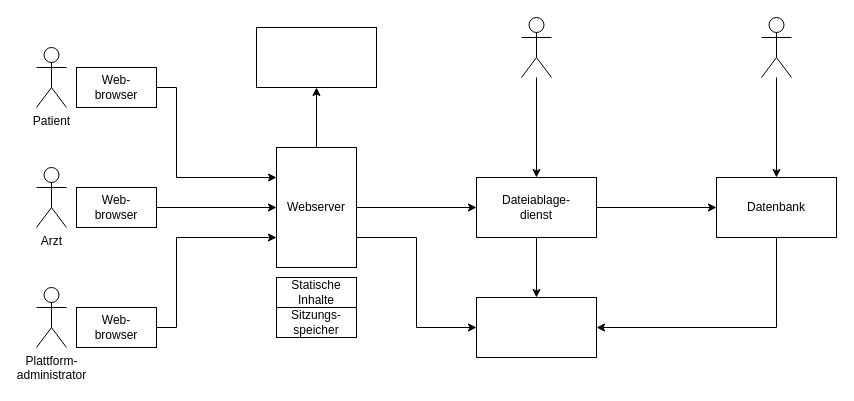
This 854x401 diagram has some shape labels left out. Each missing label, with the centre of its shape:
"Anwendungs- administrator" belongs at (536,47).
"Datenbank- administrator" belongs at (776,47).
"Externer IDP" belongs at (316,57).
"Logserver?" belongs at (536,327).
